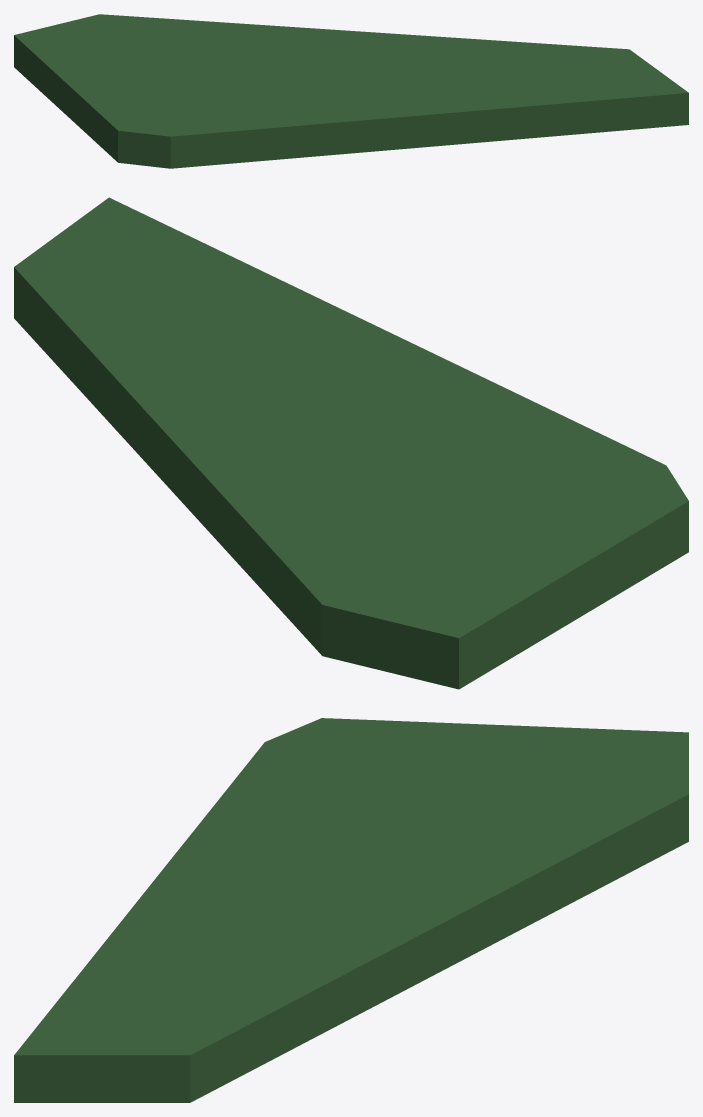
The model's file is x_proval_00_183_1_rmstrd.fbx.
3 views of the same model, one above another, from view 1: azimuth 30°, elevation 25°; view 2: azimuth 150°, elevation 25°; view 3: azimuth 270°, elevation 25° (orthographic). The views are drawn at different scales.
Parts seen in each view (by area): view 1: x_proval_00_183_1_rmstrd1; view 2: x_proval_00_183_1_rmstrd1; view 3: x_proval_00_183_1_rmstrd1.
Boxes of the visible parts, bbox=[...] form: x_proval_00_183_1_rmstrd1: bbox=[14, 14, 688, 168]; x_proval_00_183_1_rmstrd1: bbox=[14, 197, 688, 689]; x_proval_00_183_1_rmstrd1: bbox=[14, 718, 688, 1102].
Size of the model in its own units: 3.04 by 0.2 by 2.57.
